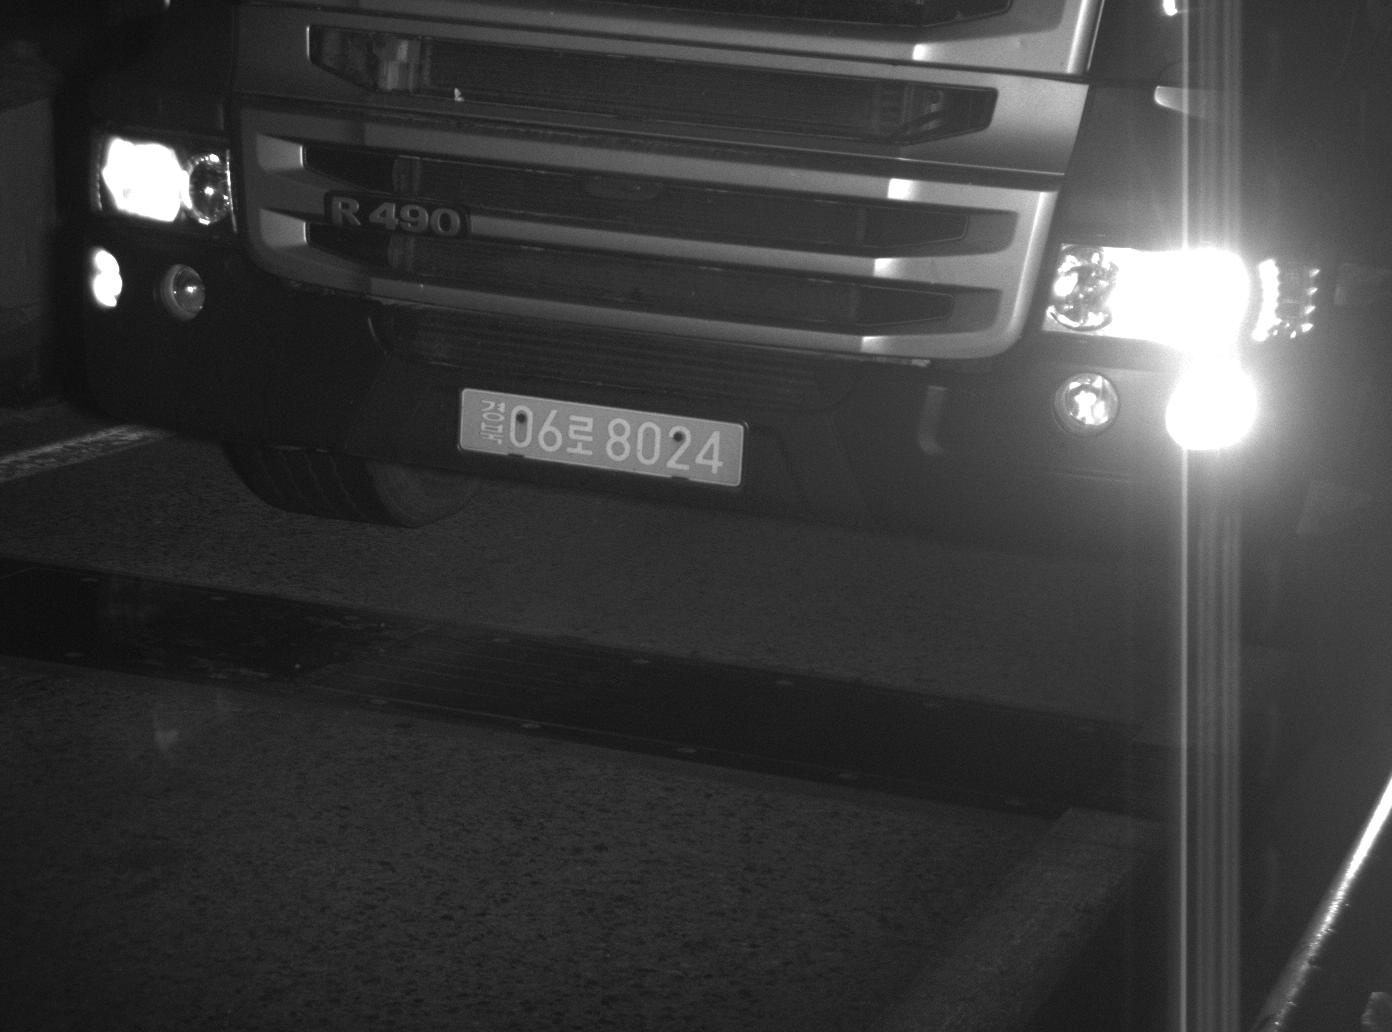car: (41, 1, 1389, 577)
plate: (452, 381, 750, 503)
